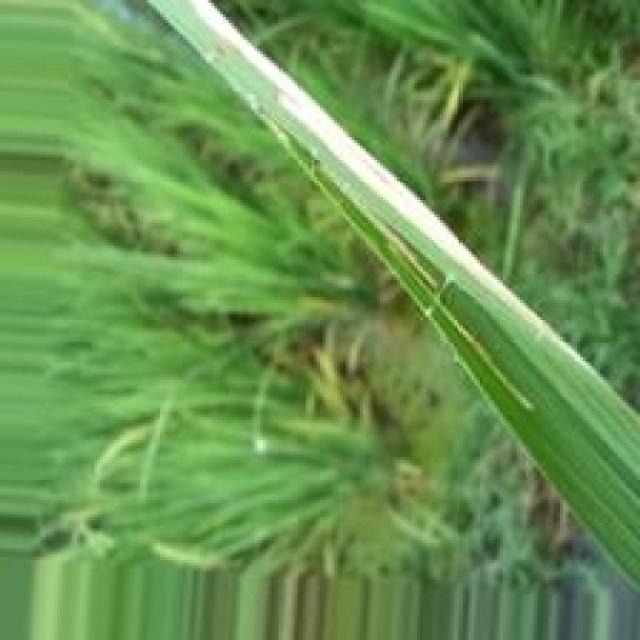Rice_Hispa: (179, 0, 577, 359)
